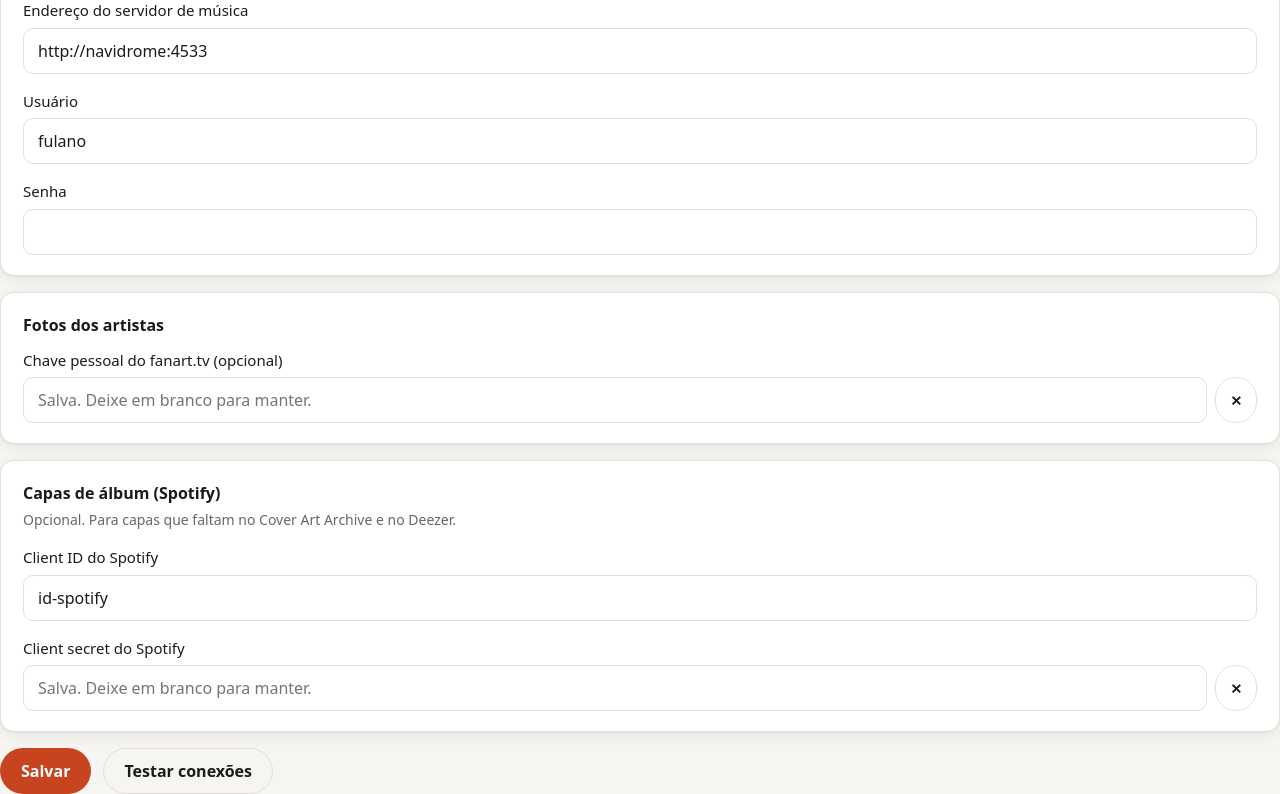
Test case: ServerSettingsForm › apaga uma chave salva
(page scrolled)
Click the button named "Apagar a chave pessoal do fanart.tv" at x=1236, y=400, box [1215, 377, 1257, 423]
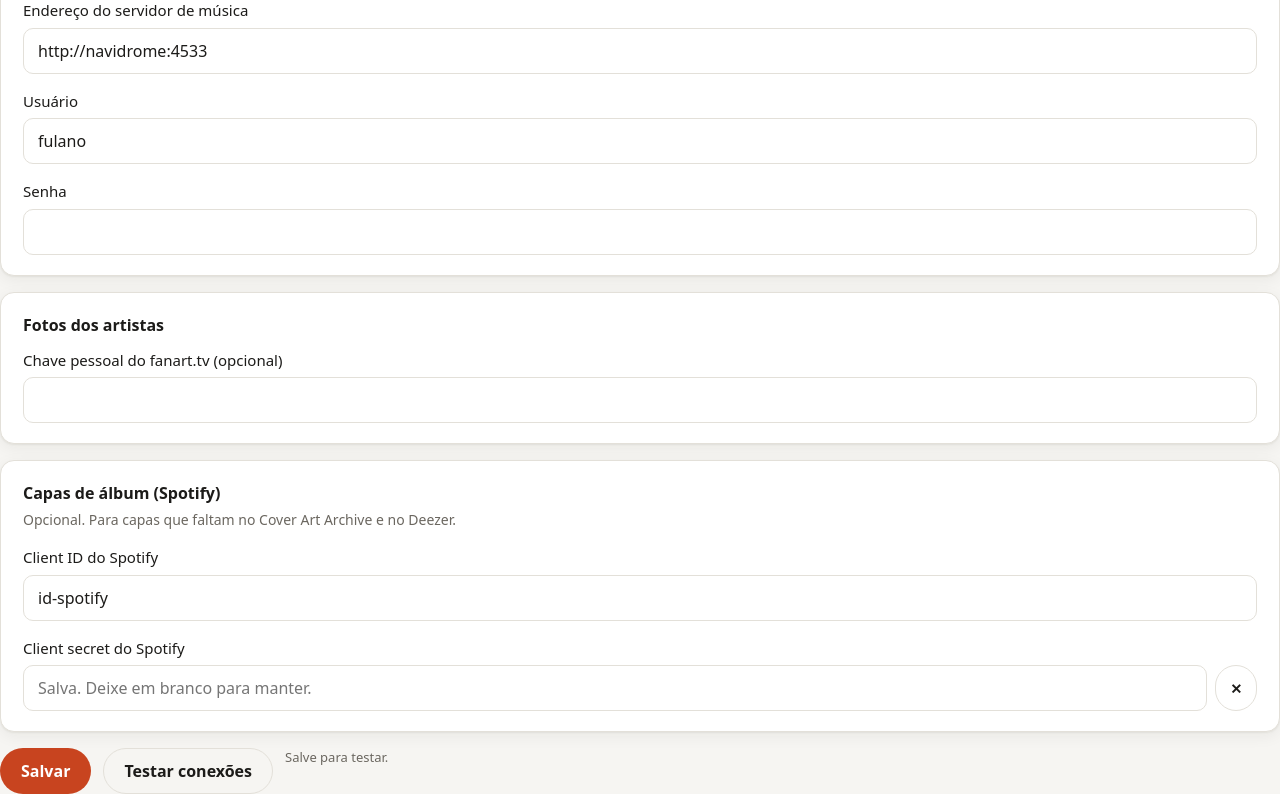
Click the button "Salvar" at x=46, y=771, box [0, 748, 91, 793]
(page scrolled)
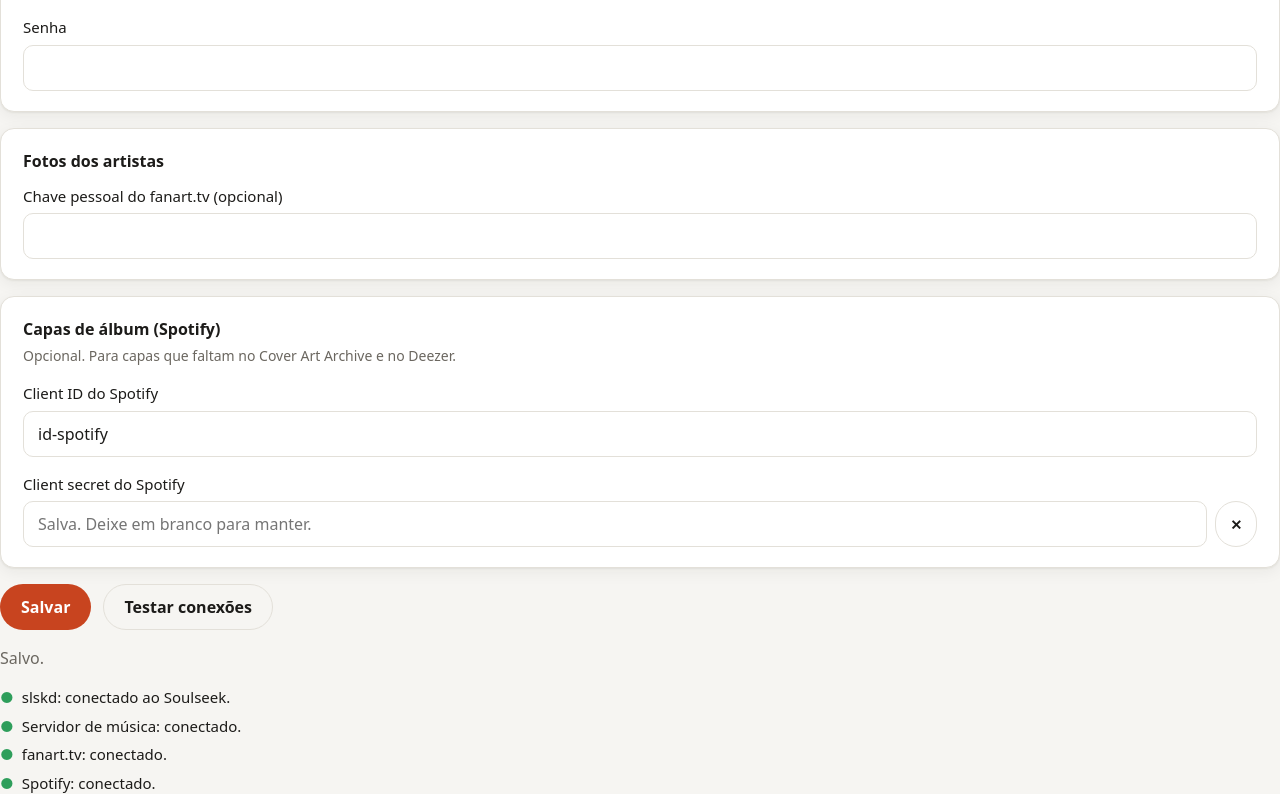
Expected: the text "Salvo." is shown, [0, 647, 44, 669]
